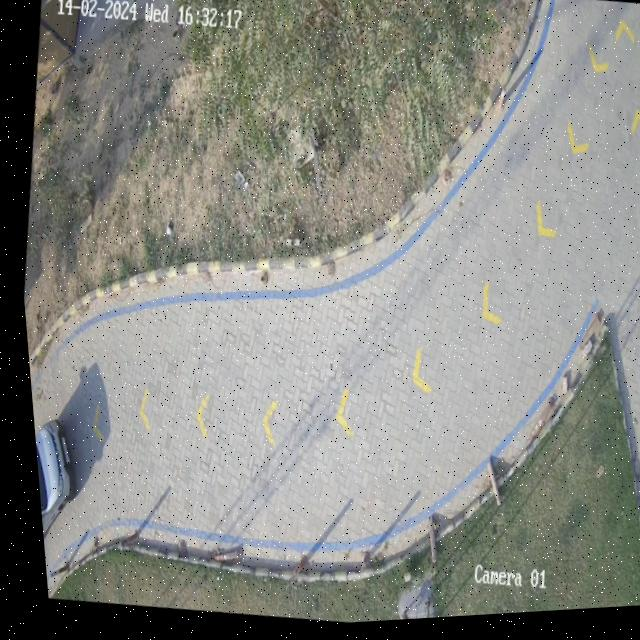car: (28, 418, 62, 537)
